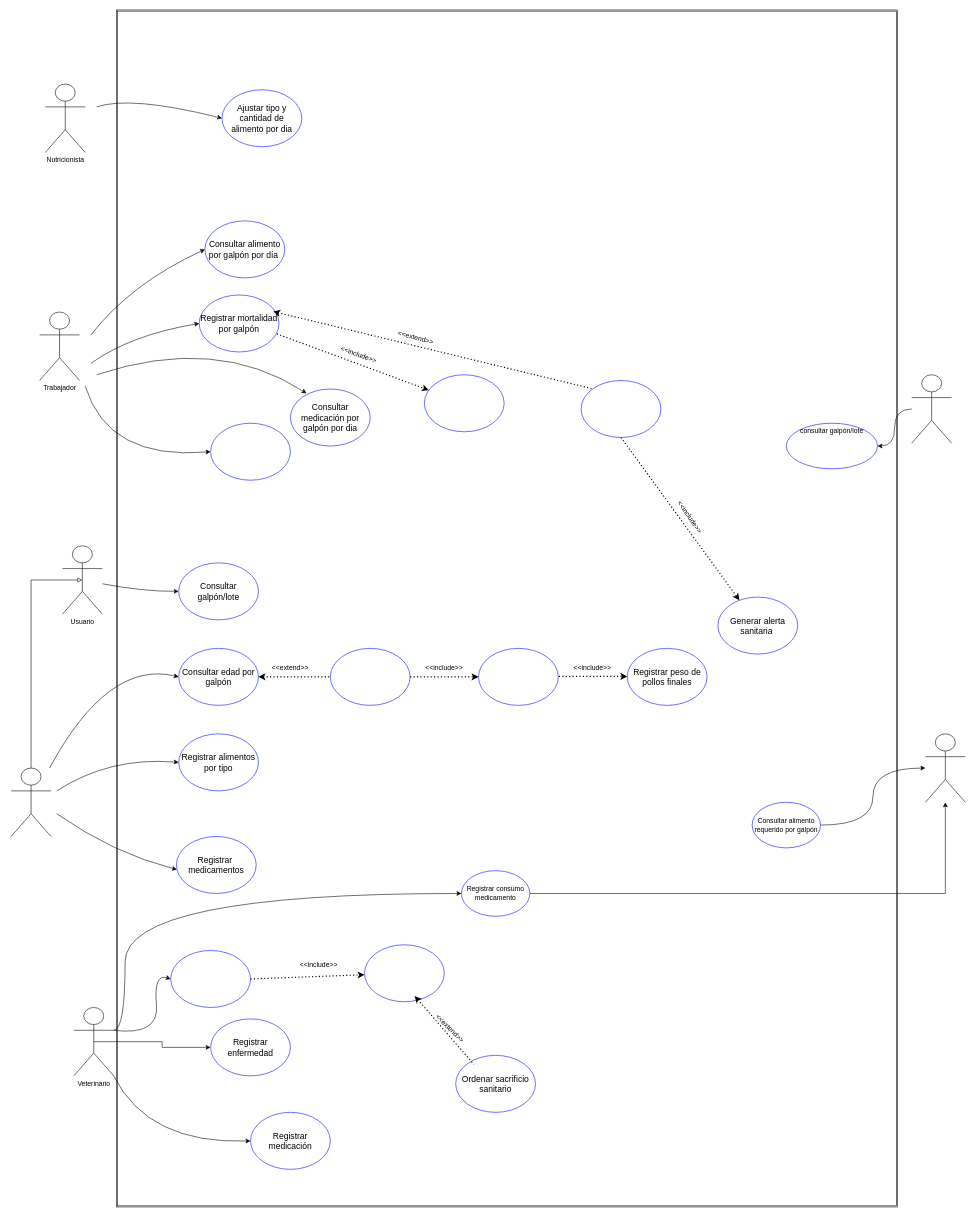
The diagram is 975 pixels wide and 1217 high, and some of its shapes have lost their labels. The centre of each missing label's shape, as x and y in pixels:
Actualizar población actual por galpón: the point at 464,403
Administrador: the point at 31,802
Diagnosticar galpón: the point at 404,973
Modulo 1: the point at 931,408
Modulo 3: the point at 945,767
Ordenar sacrificio por galpón: the point at 518,676
Registrar mortalidad anormal: the point at 621,408
Solicitar validación para aislar galpón: the point at 250,451
Validar aislamiento: the point at 210,978
Validar apto para sacrifico: the point at 370,676
